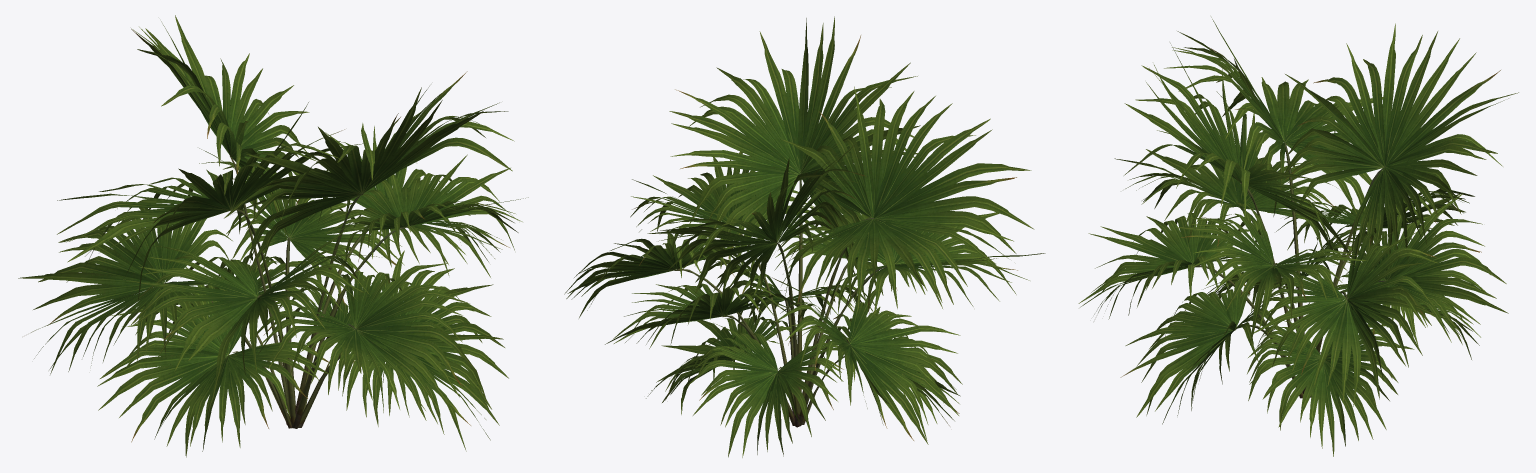
Rendered from palmetto_shrub.glb.
3 renders of one model, left to right at view 1: azimuth 30°, elevation 25°; view 2: azimuth 150°, elevation 25°; view 3: azimuth 270°, elevation 25°, orthographic. The views are drawn at different scales.
Visible parts, largest first — view 1: LIVISTONA_CHINENSIS_LIVISTONA_CHINENSIS_Mat_0; view 2: LIVISTONA_CHINENSIS_LIVISTONA_CHINENSIS_Mat_0; view 3: LIVISTONA_CHINENSIS_LIVISTONA_CHINENSIS_Mat_0.
Boxes of the visible parts, left/top/right/bottom form: LIVISTONA_CHINENSIS_LIVISTONA_CHINENSIS_Mat_0: left=18, top=15, right=528, bottom=457; LIVISTONA_CHINENSIS_LIVISTONA_CHINENSIS_Mat_0: left=564, top=16, right=1045, bottom=457; LIVISTONA_CHINENSIS_LIVISTONA_CHINENSIS_Mat_0: left=1078, top=17, right=1518, bottom=456.
Bounding box in the file's own units: 1.97 × 1.6 × 1.79.
Materials: 1 (1 with a texture image).
